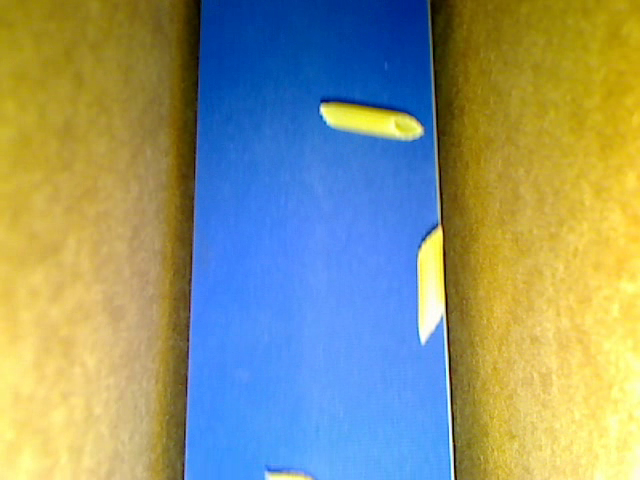penne: (319, 100, 423, 139), (418, 223, 445, 345)
